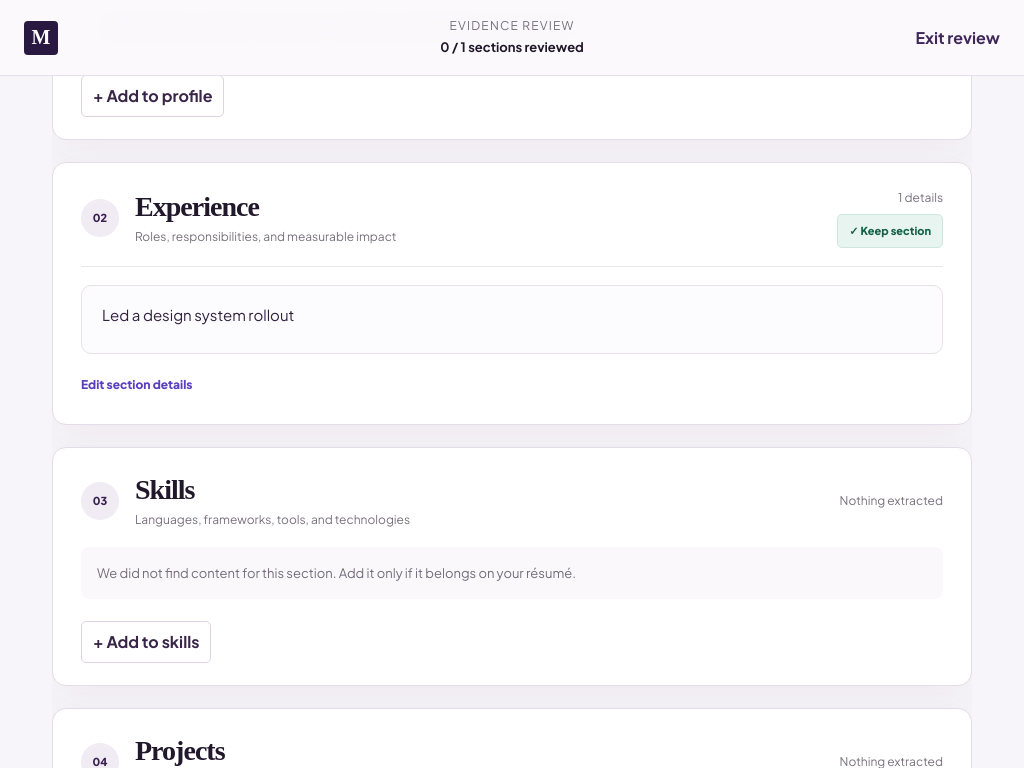
ResumeVerificationPage › shows editable content without duplicating source text and saves it
(page scrolled)
Expected: the heading "Experience" is shown, top-left (135, 191), bottom-right (259, 222)
Expected: the heading "Skills" is shown, top-left (135, 474), bottom-right (194, 505)
Click the button with aria-label "Edit experience details" at (137, 385), box top-left (81, 368), bottom-right (192, 402)
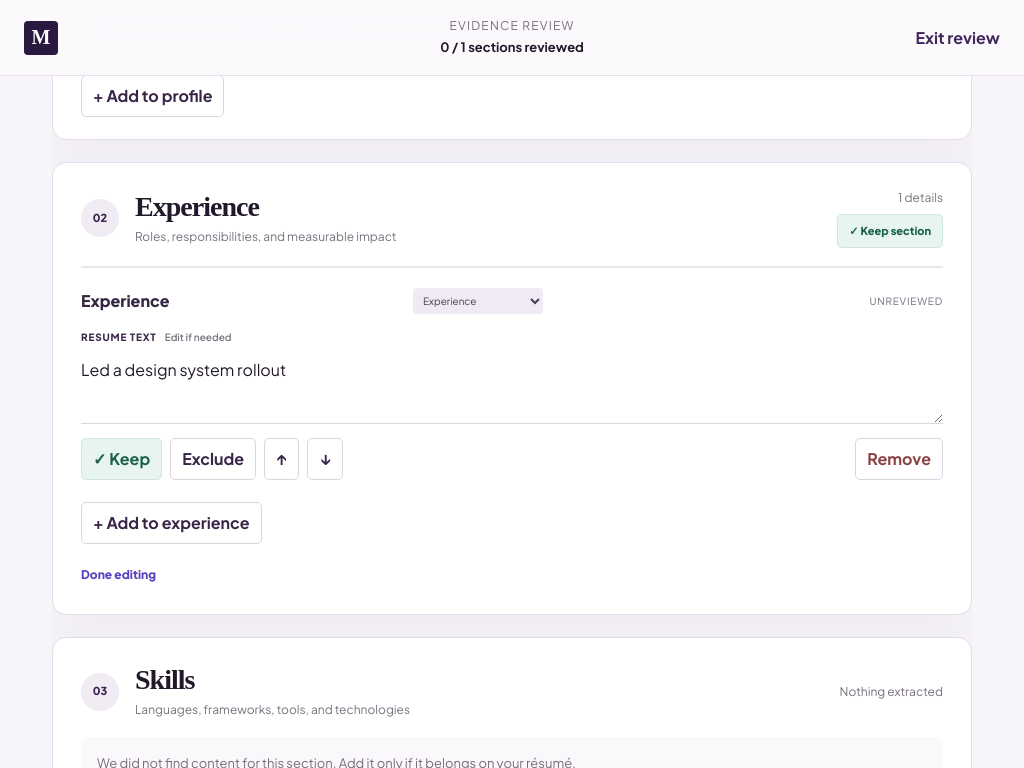
Result: the text box showing "Led a design system rollout" is shown
Result: the text "Resume text" is shown at top-left (81, 331), bottom-right (157, 343)
Replace the text in the text box showing "Led a design system rollout" with "Led and scaled a verified design system rollout" at (512, 387), box top-left (81, 350), bottom-right (943, 424)
(page scrolled)
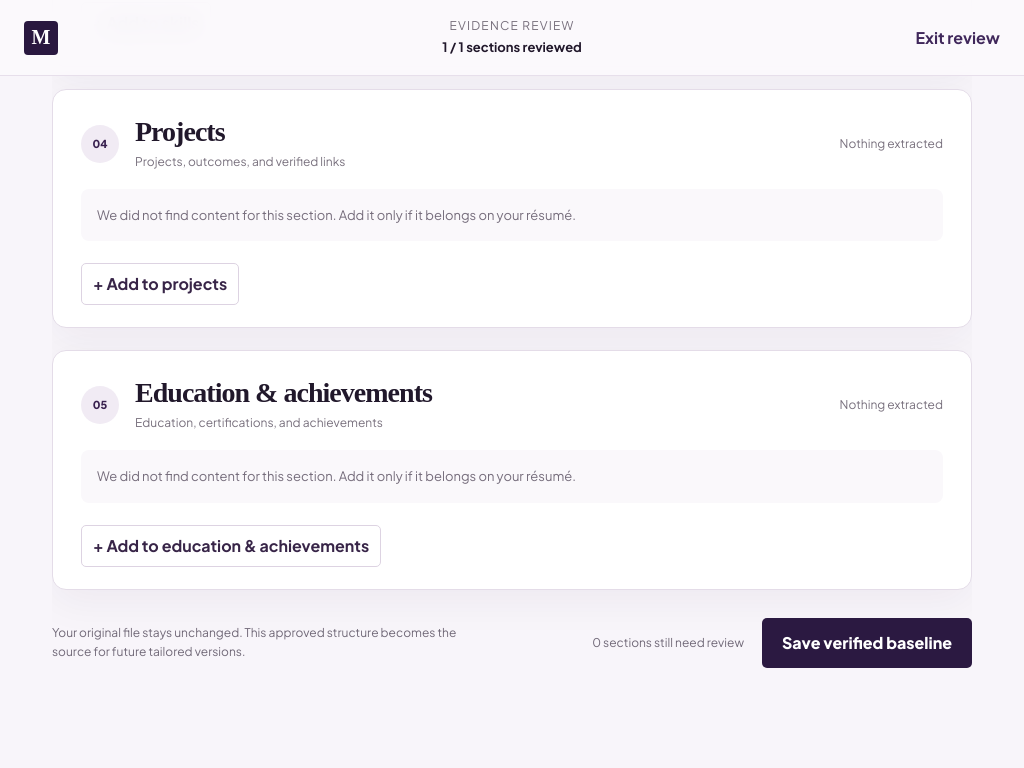
Click the button "Save verified baseline" at (867, 643), box top-left (762, 618), bottom-right (972, 668)
(page scrolled)
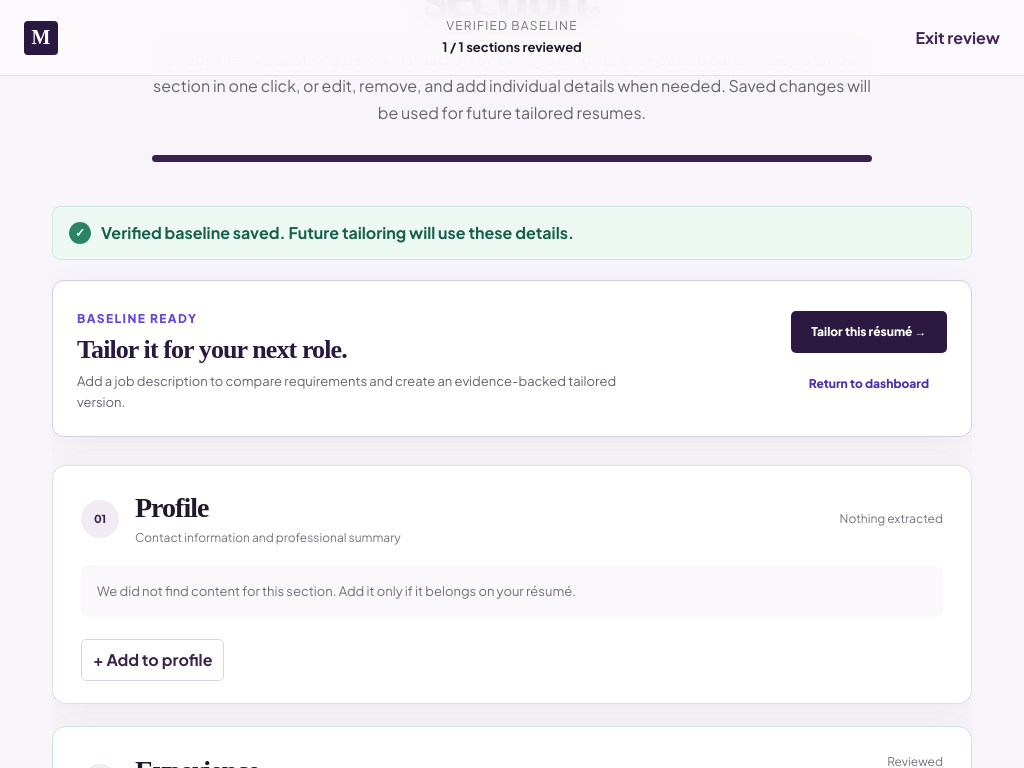
Result: the text "Verified baseline saved. Future tailoring will use these details." is shown at top-left (101, 222), bottom-right (574, 243)
